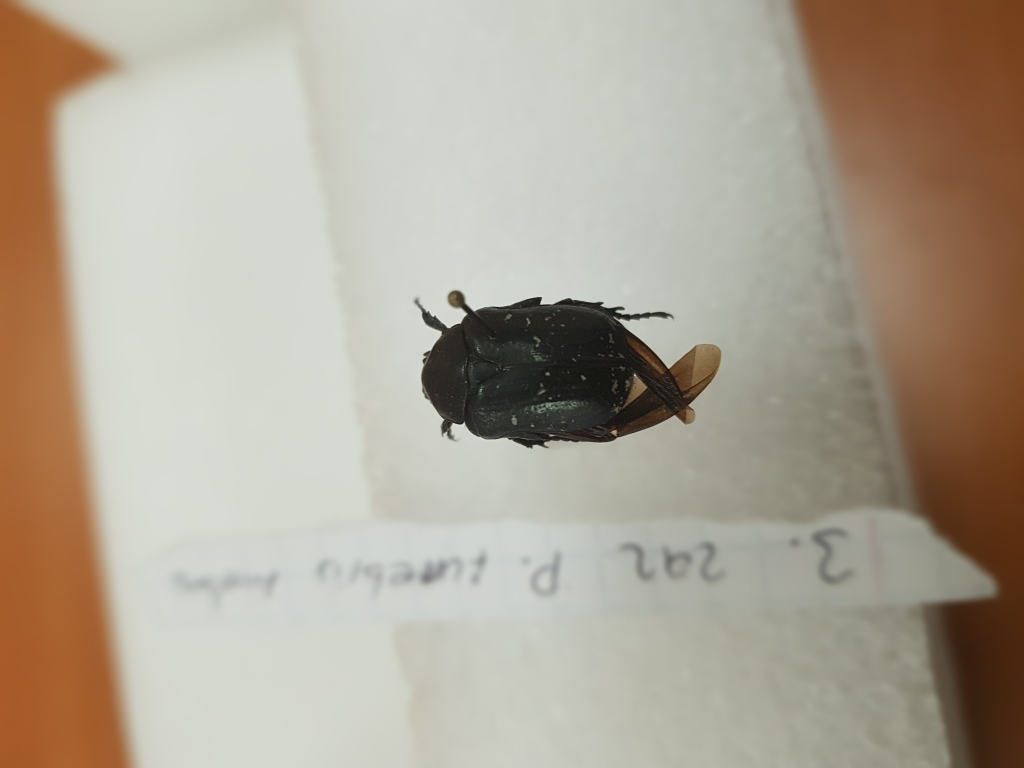Protaetia_funebris: (410, 288, 650, 455)
